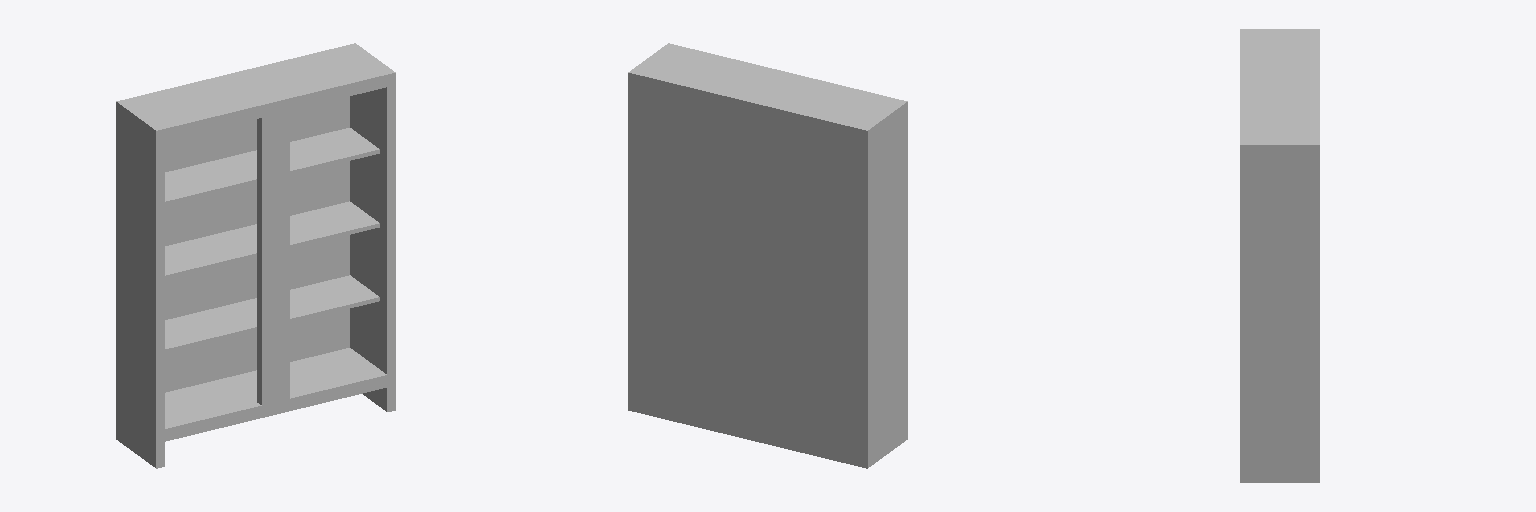
Rendered from Cupboard02.obj.
The picture shows the model from 3 angles: view 1: azimuth 30°, elevation 25°; view 2: azimuth 150°, elevation 25°; view 3: azimuth 270°, elevation 25°; orthographic projection.
Visible parts, largest first — view 1: Cupboard02_LOD0_Cube.012; view 2: Cupboard02_LOD0_Cube.012; view 3: Cupboard02_LOD0_Cube.012.
Part boxes in pixels (x1,y1,x2,y2): Cupboard02_LOD0_Cube.012: (116, 43, 395, 468); Cupboard02_LOD0_Cube.012: (628, 43, 907, 468); Cupboard02_LOD0_Cube.012: (1240, 29, 1319, 482).
Bounding box in the file's own units: 1 × 1.35 × 0.2913.